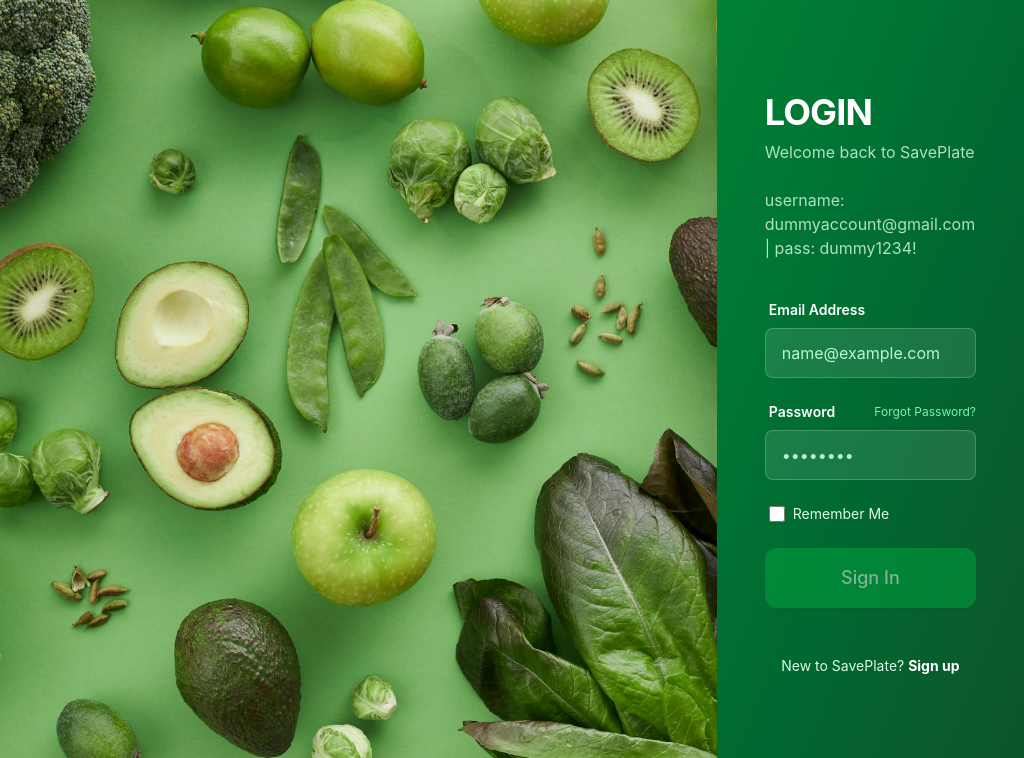
Test: Sidebar Navigation E2E › should navigate to Food And Inventory page
Type "dummyaccount@gmail.com" into the field with id "email" at (871, 353), box [765,328,976,378]
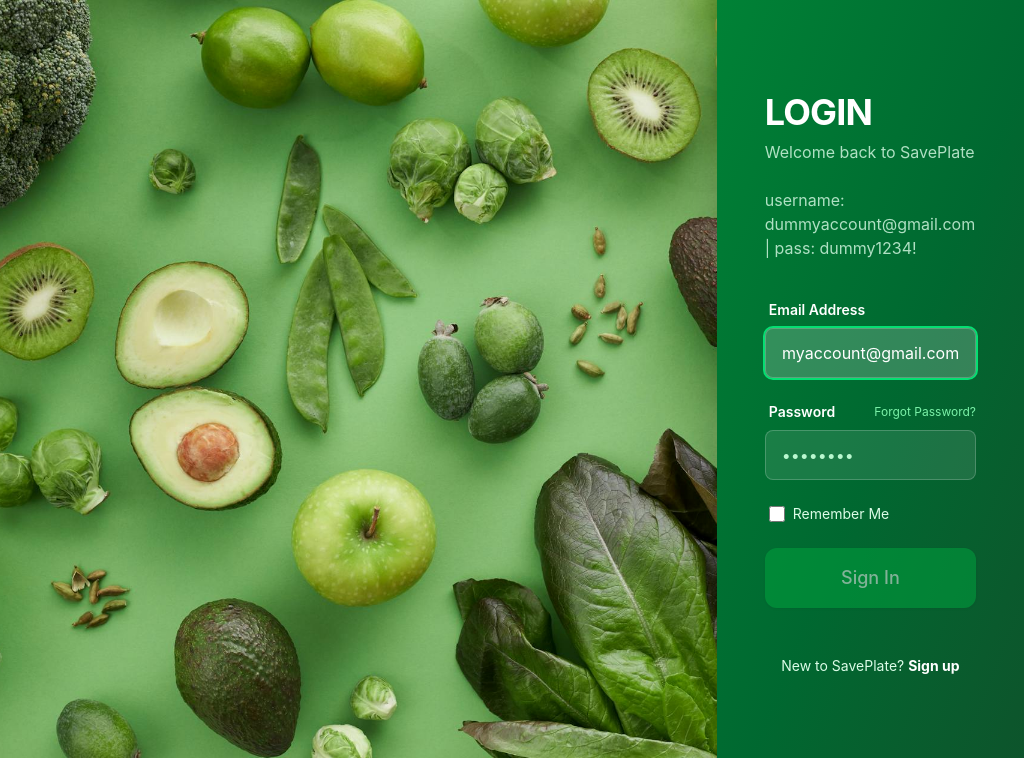
Type "dummy1234!" into the password field labelled "Password" at (871, 455), box [765,430,976,480]
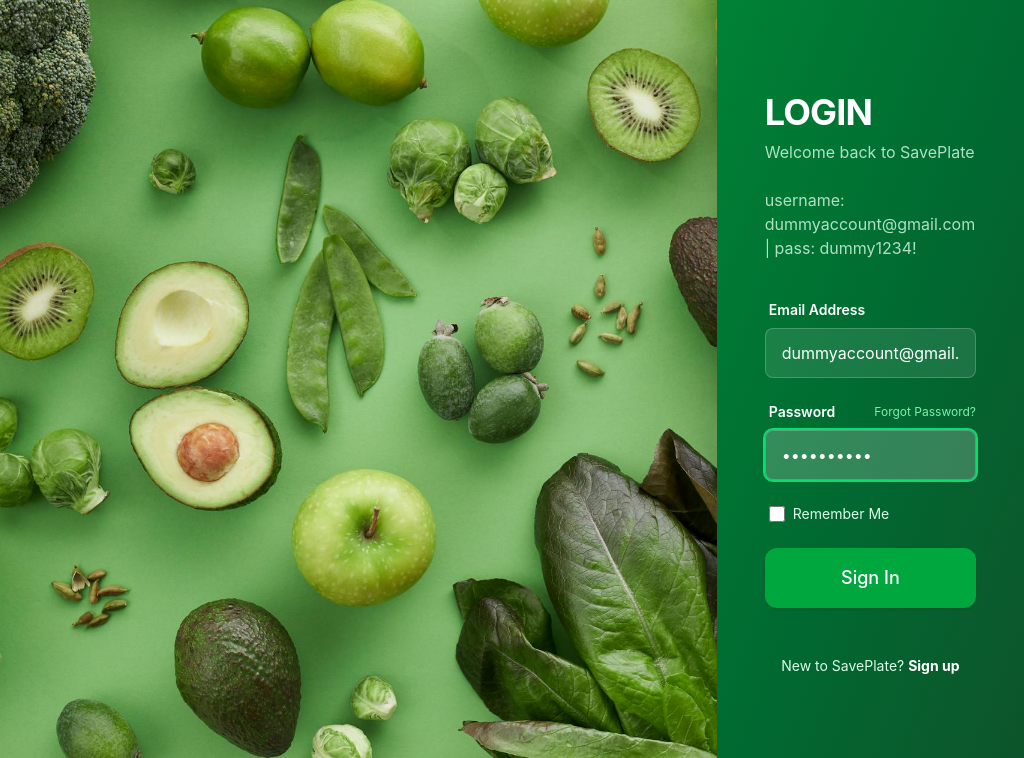
Click the submit button at (871, 578), box [765,548,976,608]
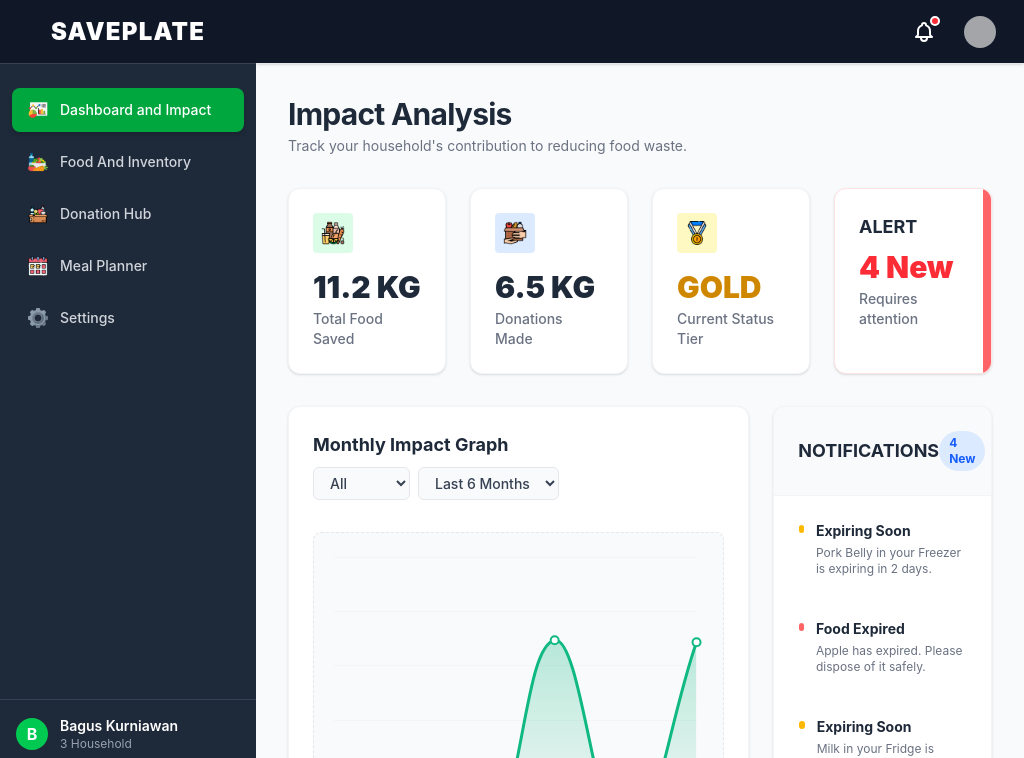
Click the link "Food And Inventory" at (110, 162), box [28,152,191,172]
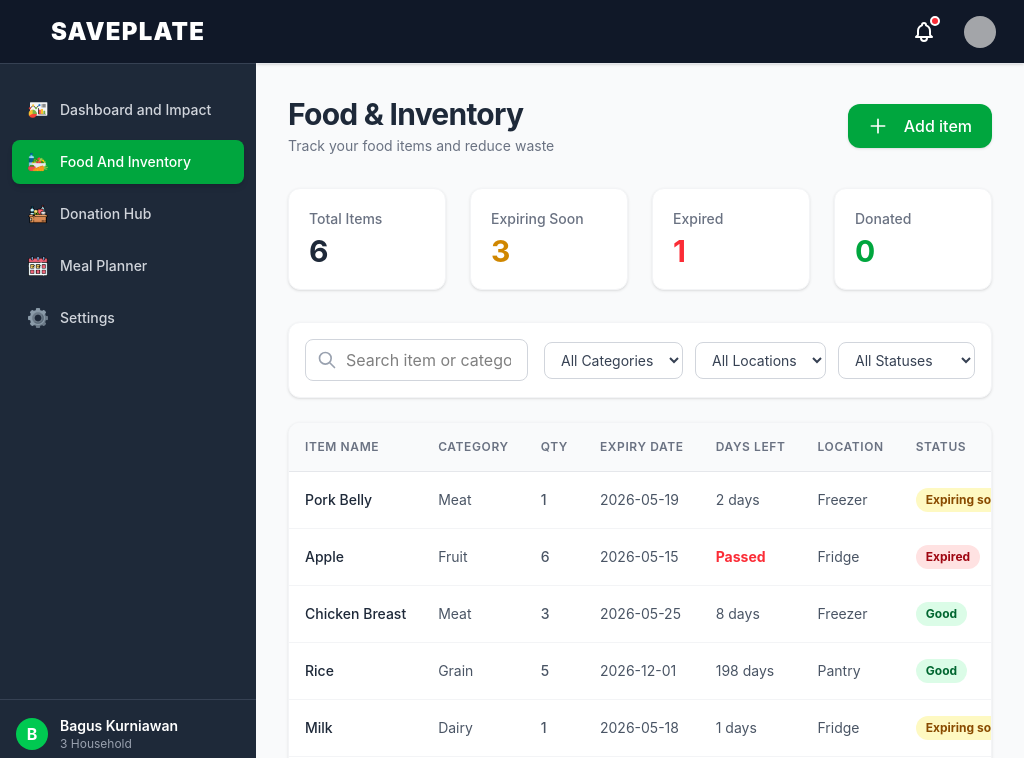
Expected: the heading "Food & Inventory" is shown, [288,96,554,132]
